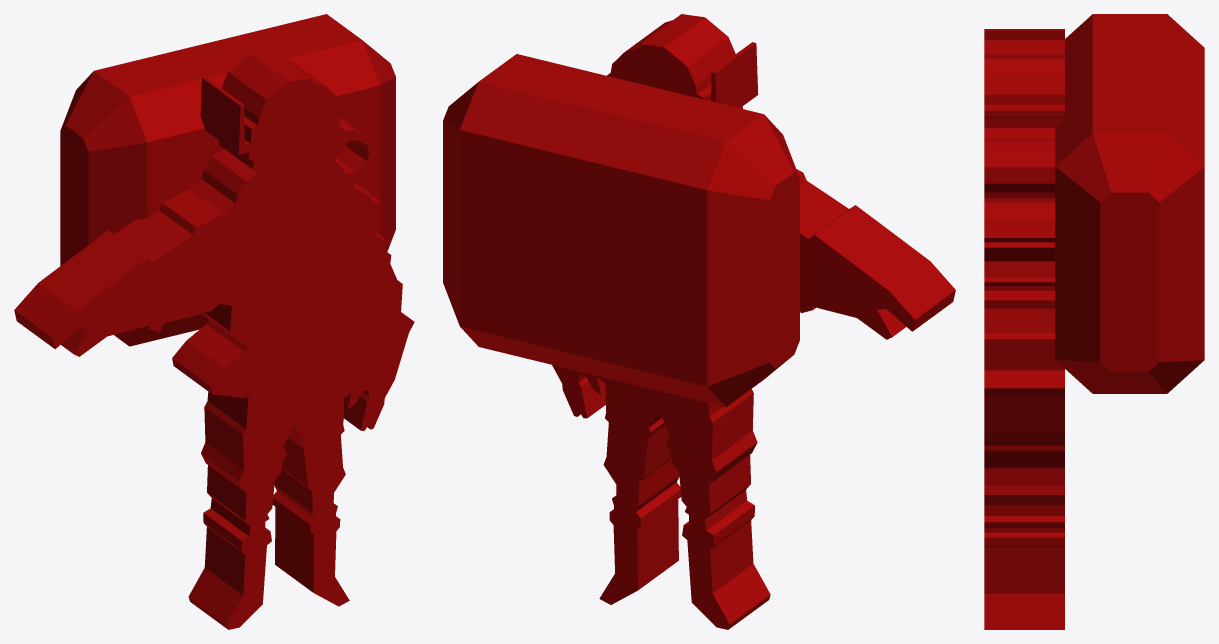
File: Hearthian Scale Ref.fbx
3 views of the same model, side by side, from view 1: azimuth 30°, elevation 25°; view 2: azimuth 150°, elevation 25°; view 3: azimuth 270°, elevation 25° (orthographic). The views are drawn at different scales.
Visible parts, largest first — view 1: Hearthian; view 2: Hearthian; view 3: Hearthian.
Part boxes in pixels (left/top/right/bottom): Hearthian: left=14, top=14, right=414, bottom=629; Hearthian: left=443, top=14, right=955, bottom=629; Hearthian: left=984, top=14, right=1204, bottom=629.
Bounding box in the file's own units: 1.67 × 2.15 × 0.7649.
